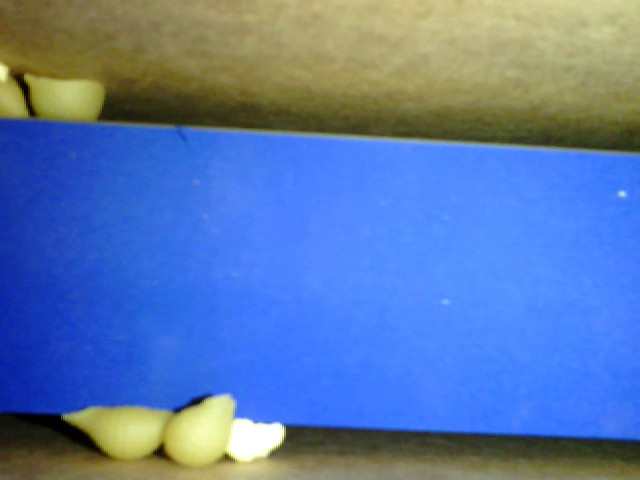shell: (63, 406, 176, 461), (168, 392, 235, 467), (20, 72, 108, 123)
